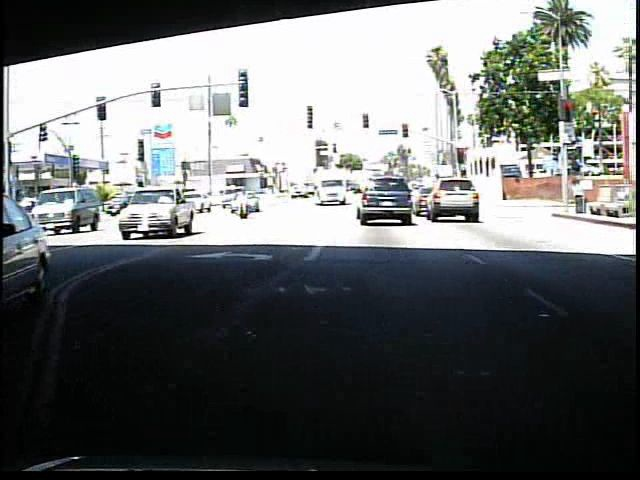person: (234, 185, 252, 220)
